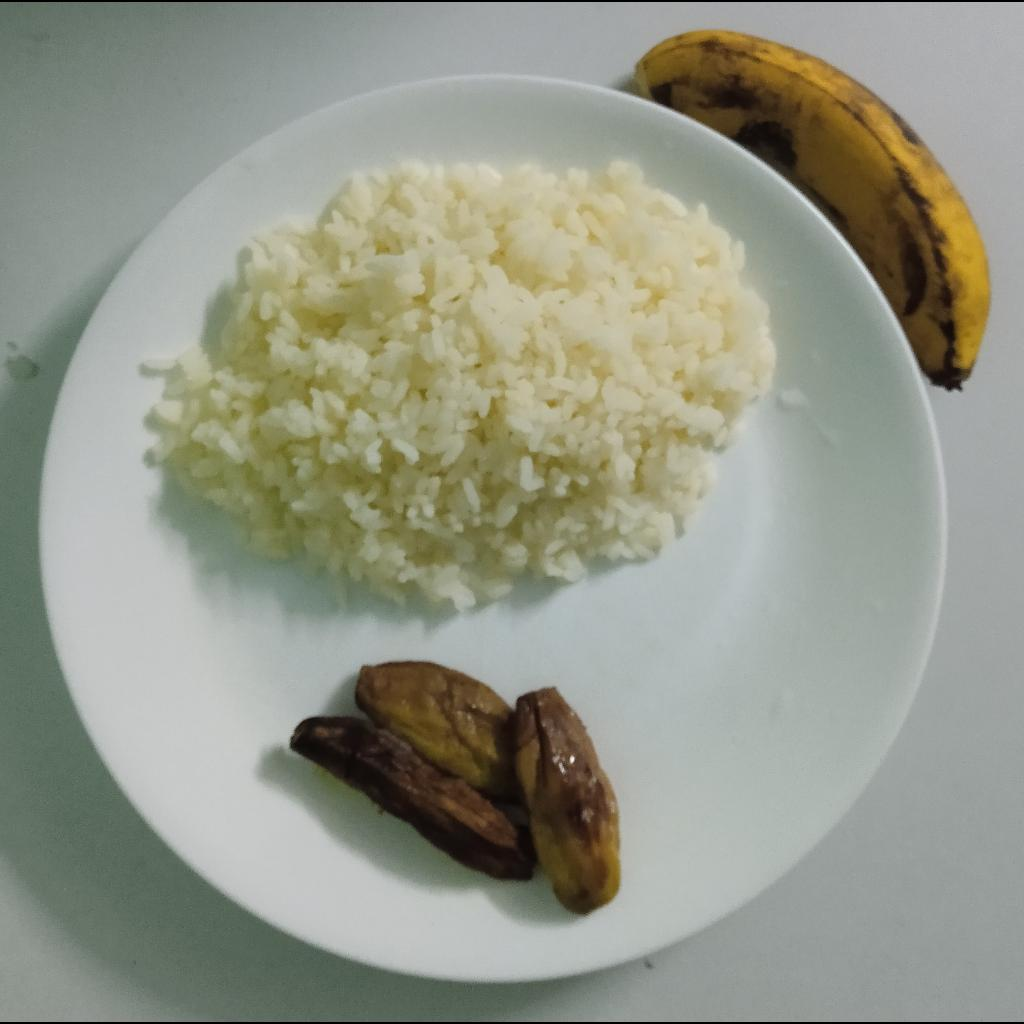banana: (637, 30, 993, 395)
potol: (288, 663, 623, 914)
rice: (146, 160, 772, 615)
